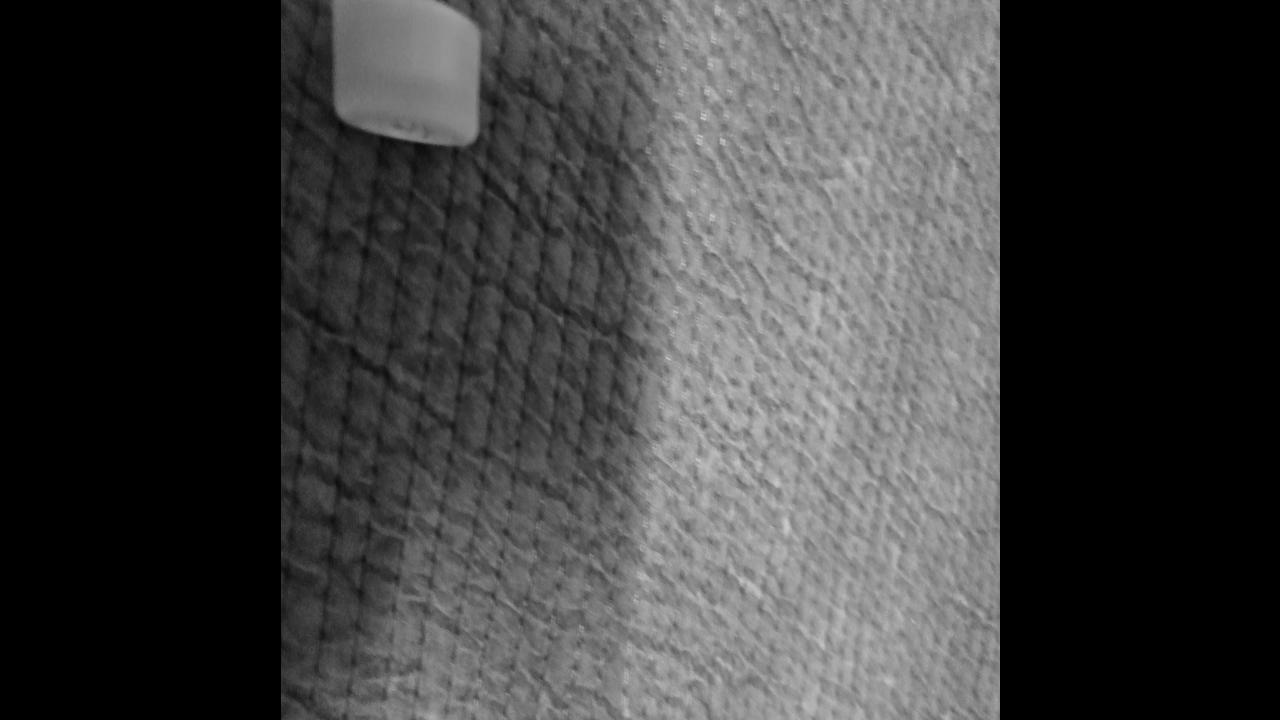bottle_cap: (333, 0, 479, 148)
